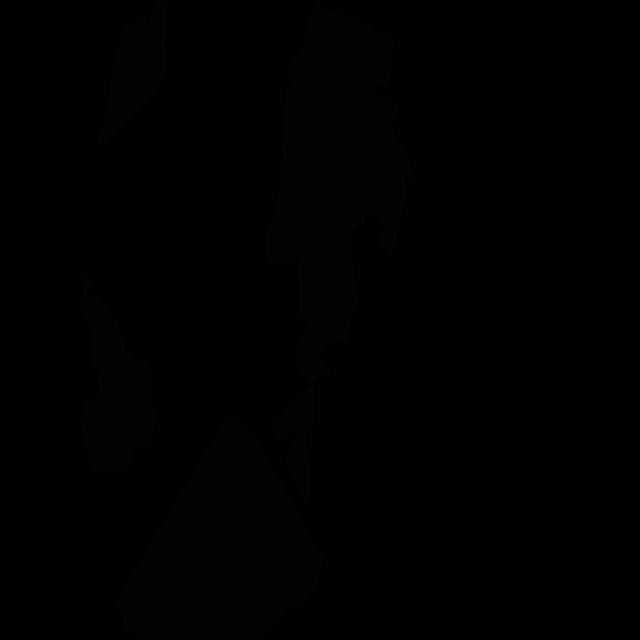cardboard: (115, 413, 324, 640), (78, 273, 156, 474), (98, 0, 168, 149), (284, 432, 310, 509)
